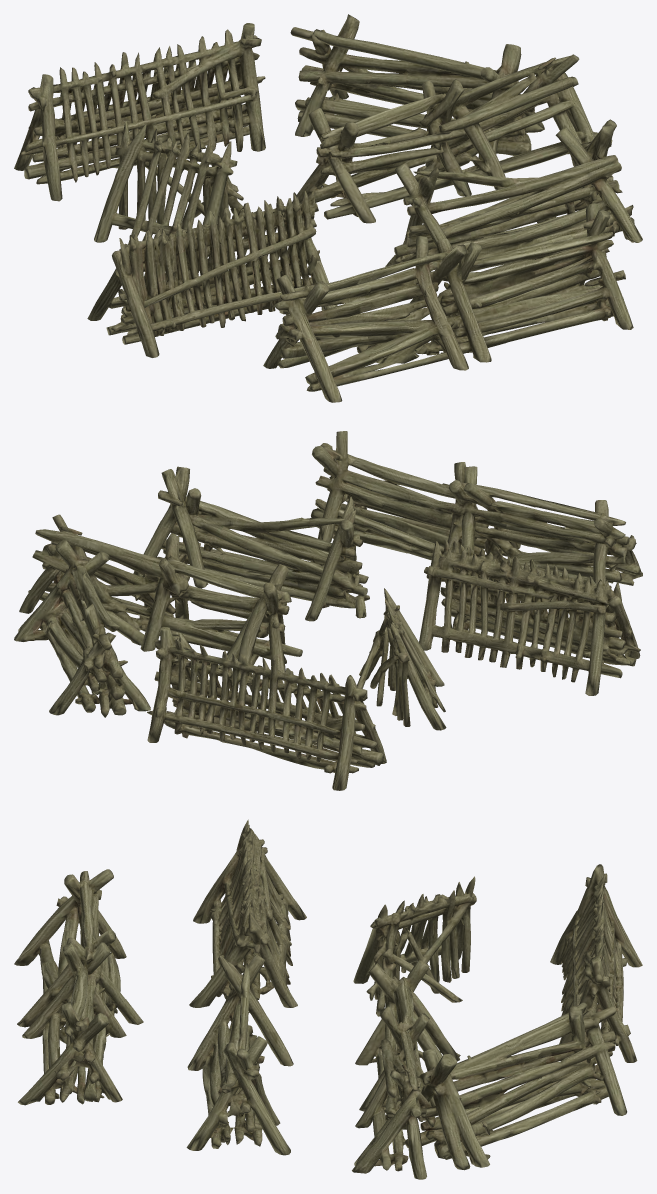
The model's file is fence_fragment_weathered.glb.
The picture shows the model from 3 angles, top to bottom: view 1: azimuth 30°, elevation 25°; view 2: azimuth 150°, elevation 25°; view 3: azimuth 270°, elevation 25°; orthographic projection. The views are drawn at different scales.
Bounding box in the file's own units: 1.9 × 0.3533 × 1.87.
Materials: 1 (1 with a texture image).
